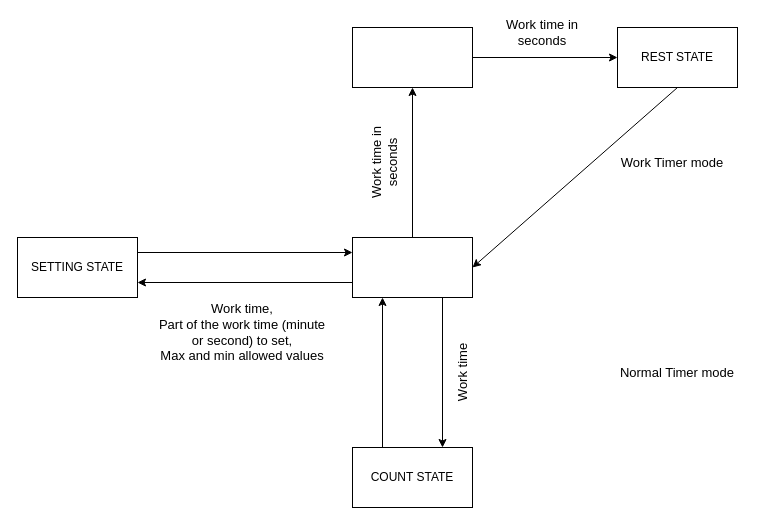
Some shapes in this 760 by 525 pixel diagram are drawn without their labels. The shapes that lost their labels are listed below. From the top down, each one's centre as x and y in pixels, then its label:
the point at 412,57: WORK STATE
the point at 412,267: EXTRA REST STATE
